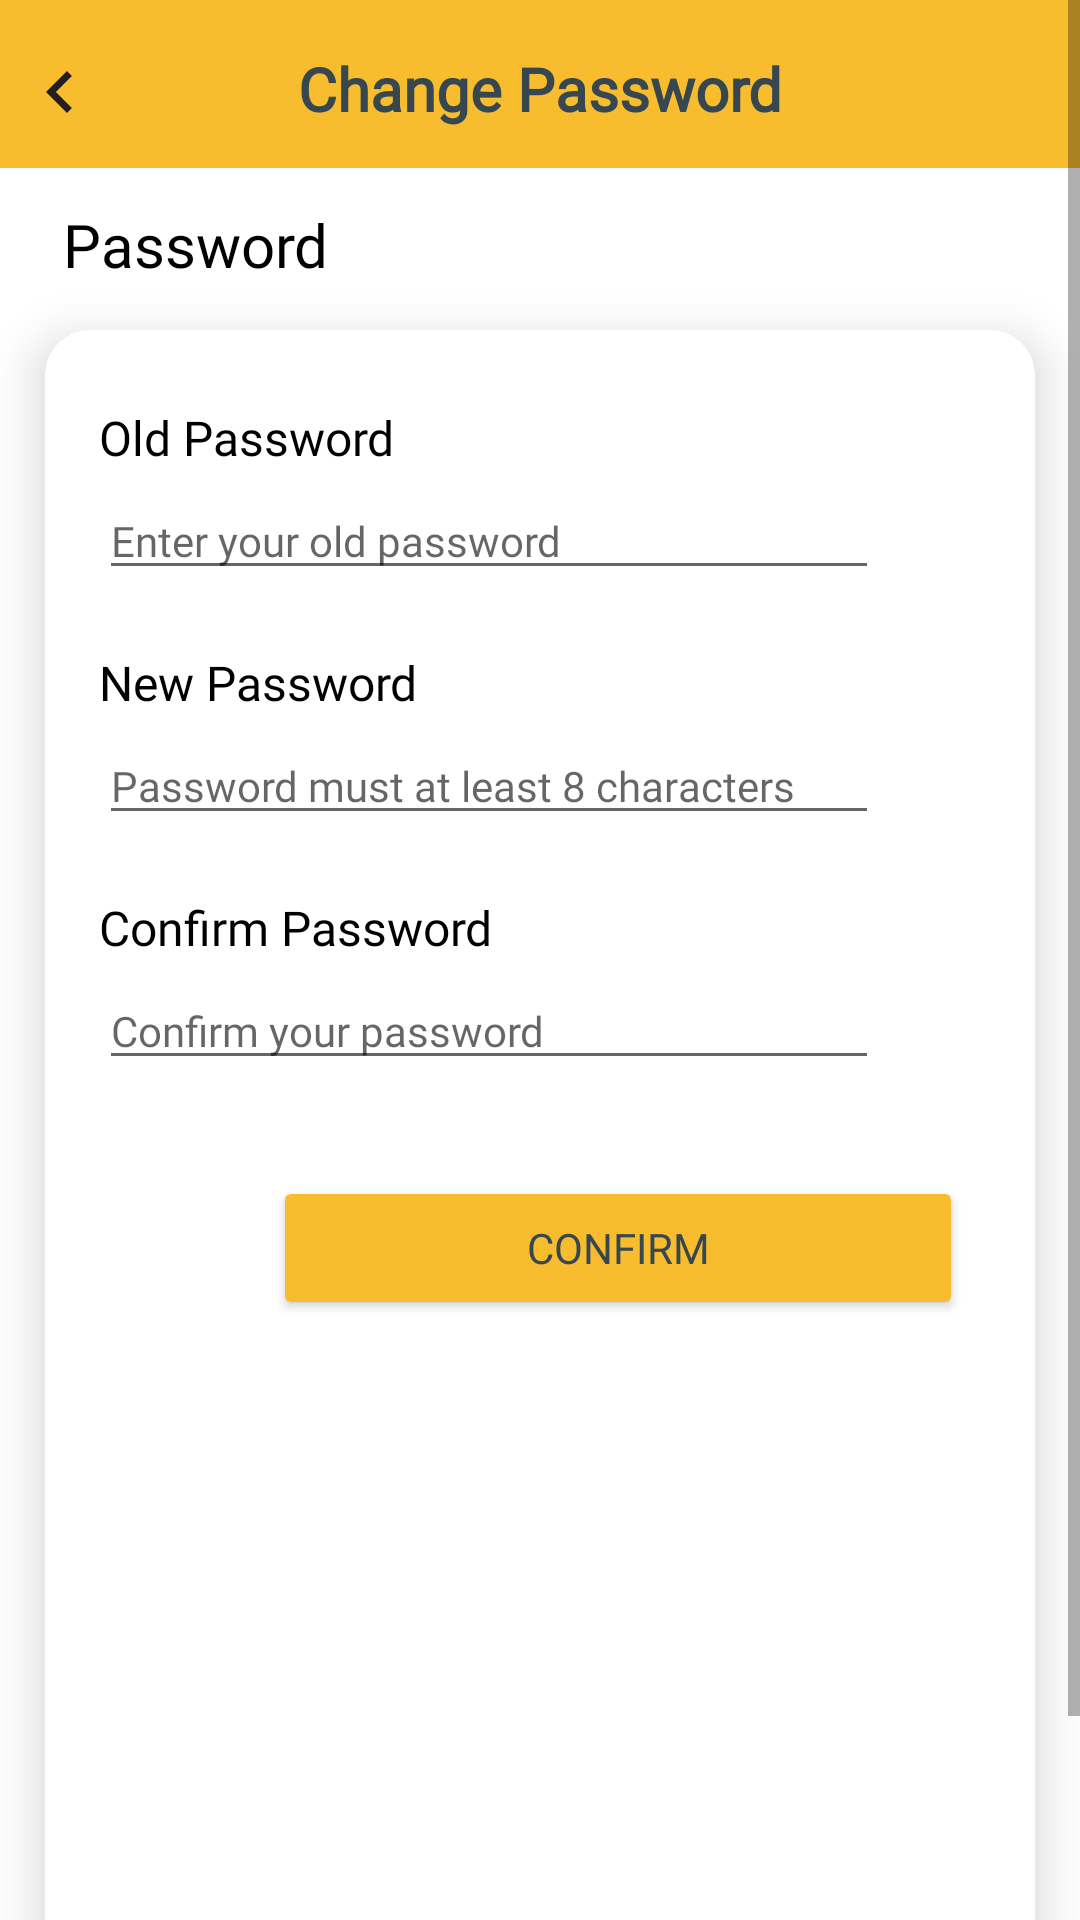

Locate icon controls on the screen. Image size 1080w x 1920h, boxes as (x1, y1, x2, y2).
chevron left: (46, 71, 72, 113)
